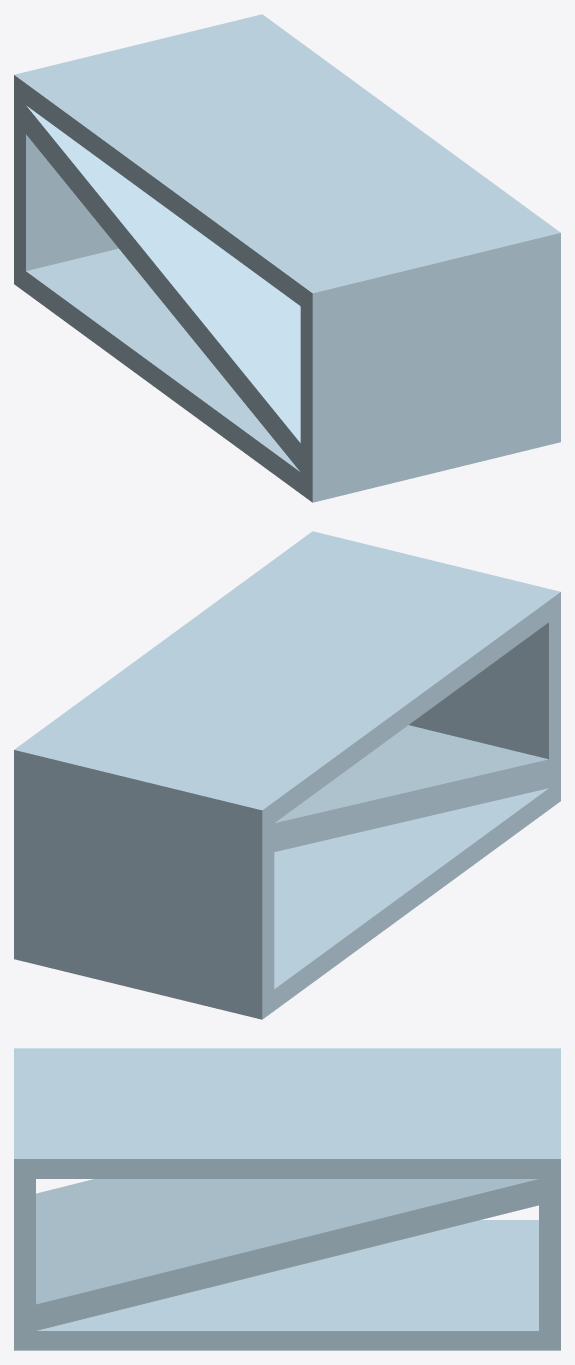
The picture shows the model from 3 angles, top to bottom: view 1: azimuth 30°, elevation 25°; view 2: azimuth 150°, elevation 25°; view 3: azimuth 270°, elevation 25°; orthographic projection. The views are drawn at different scales.
Parts seen in each view (by area): view 1: mesh1346, mesh1345, mesh1348, mesh1353, mesh1349, mesh1350; view 2: mesh1346, mesh1343, mesh1348, mesh1349, mesh1352, mesh1353; view 3: mesh1346, mesh1347, mesh1353, mesh1349.
Boxes of the visible parts, x1,y1,x2,y2 form: mesh1346: (14,14,560,293); mesh1345: (312,233,560,502); mesh1348: (14,75,312,502); mesh1353: (27,106,300,442); mesh1349: (26,248,299,471); mesh1350: (26,134,118,270); mesh1346: (14,531,560,810); mesh1343: (14,750,262,1019); mesh1348: (262,592,560,1019); mesh1349: (274,788,548,988); mesh1352: (409,622,548,759); mesh1353: (275,725,548,822); mesh1346: (14,1048,560,1158); mesh1347: (14,1159,560,1350); mesh1353: (36,1179,537,1304); mesh1349: (37,1220,538,1330).
Bounding box in the file's own units: 0.036 × 0.029 × 0.075.
